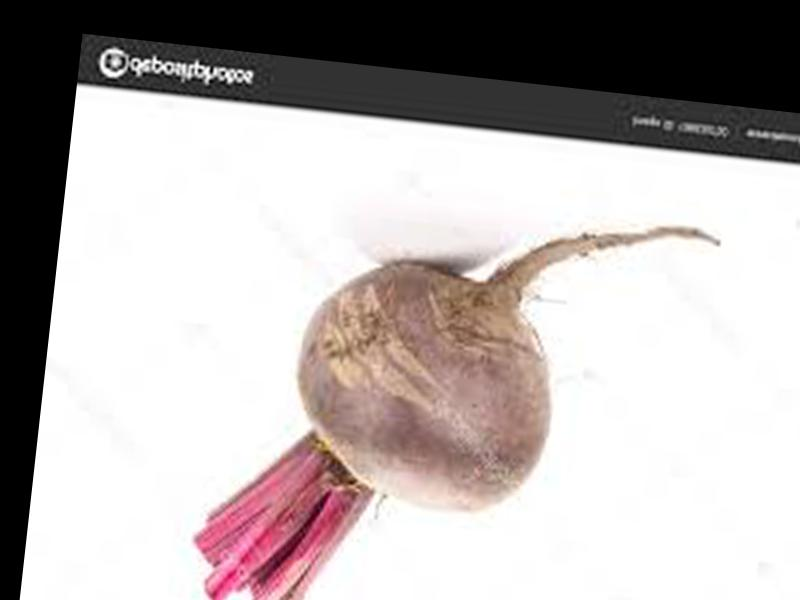Beet: (190, 179, 721, 600)
